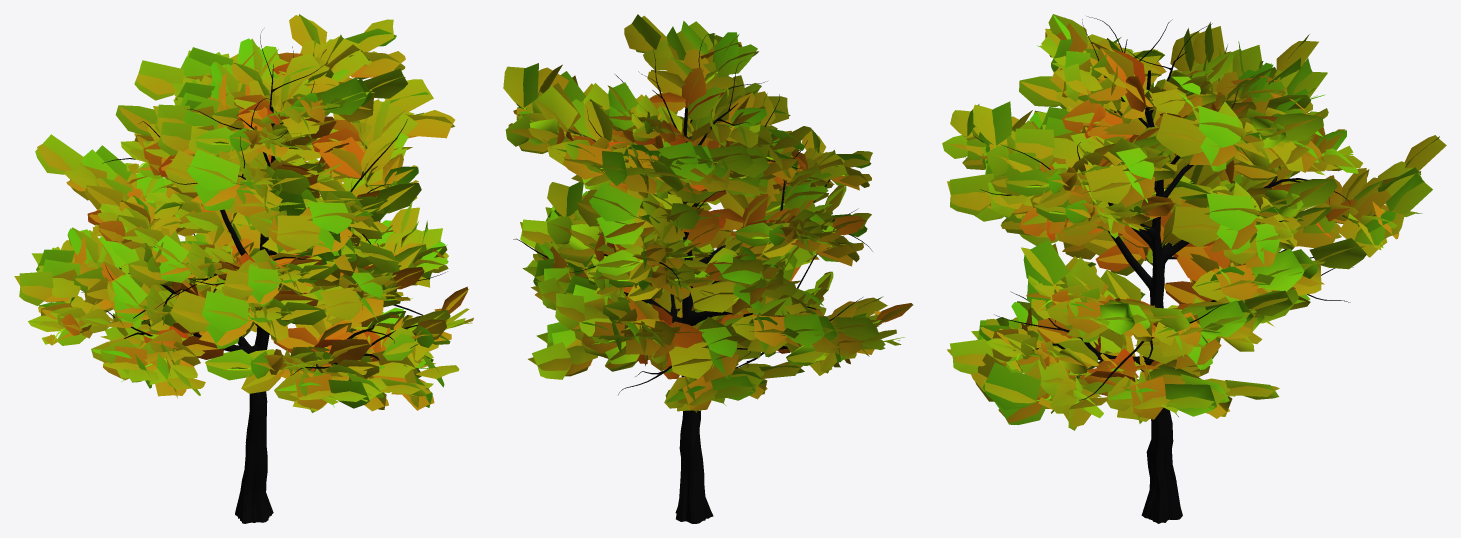
File: Tree big 1.glb
3 views of the same model, side by side, from view 1: azimuth 30°, elevation 25°; view 2: azimuth 150°, elevation 25°; view 3: azimuth 270°, elevation 25° (orthographic). The views are drawn at different scales.
Parts seen in each view (by area): view 1: Tree big 1; view 2: Tree big 1; view 3: Tree big 1.
Part boxes in pixels (x1,y1,x2,y2): Tree big 1: [14, 14, 473, 523]; Tree big 1: [503, 14, 913, 523]; Tree big 1: [942, 14, 1446, 523].
Size of the model in its own units: 58.87 by 67.92 by 61.04.
